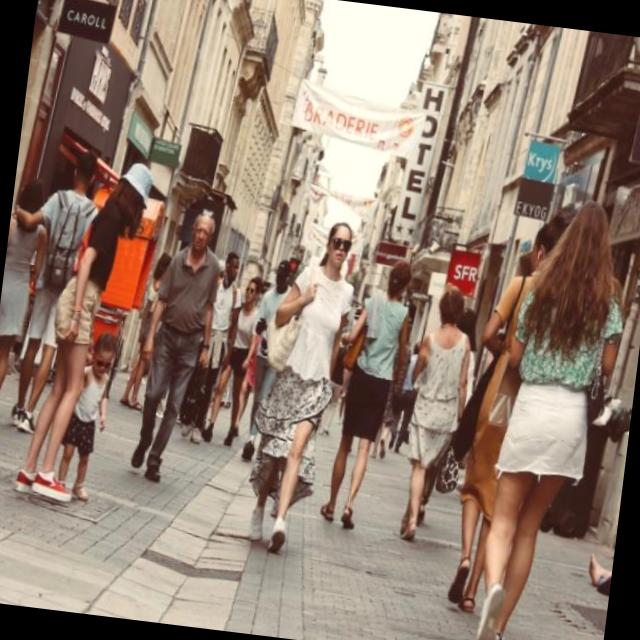person: (439, 180, 640, 640), (11, 145, 158, 510), (220, 209, 370, 562), (112, 204, 242, 496), (304, 248, 428, 540), (0, 145, 113, 440), (374, 279, 496, 546), (0, 170, 63, 428), (174, 244, 250, 450), (49, 328, 128, 505), (195, 267, 272, 448), (168, 138, 170, 144)
